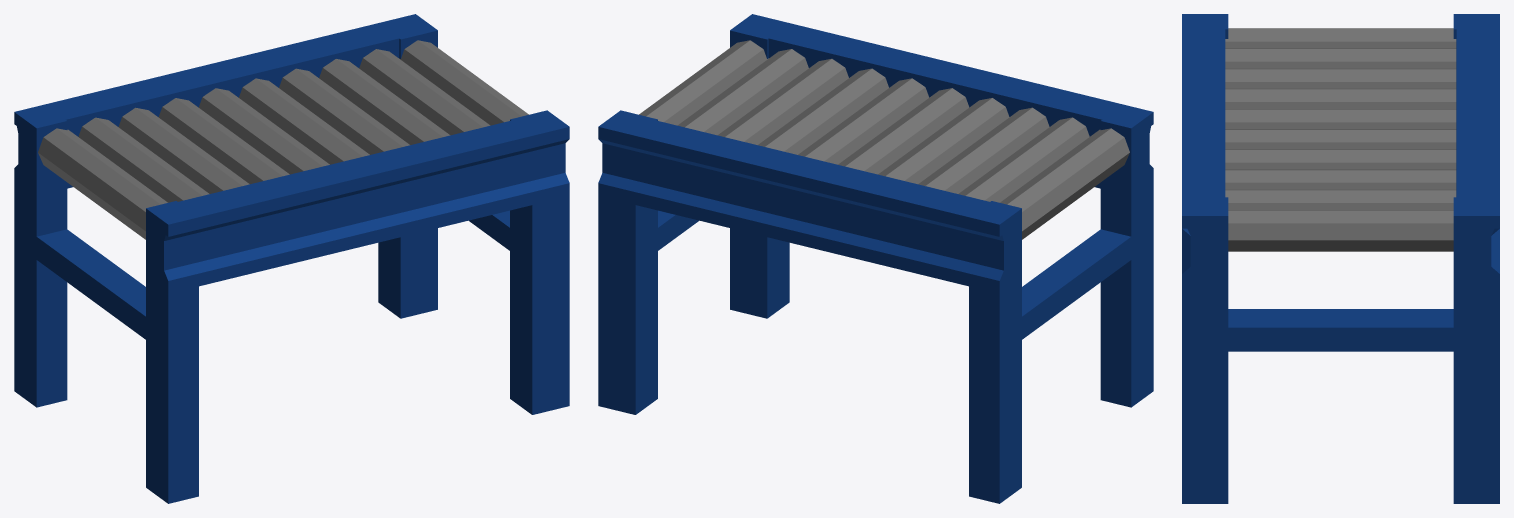
File: conveyor_basic.fbx
3 views of the same model, side by side, from view 1: azimuth 30°, elevation 25°; view 2: azimuth 150°, elevation 25°; view 3: azimuth 270°, elevation 25° (orthographic). The views are drawn at different scales.
Parts seen in each view (by area): view 1: Cube, Cylinder; view 2: Cube, Cylinder; view 3: Cube, Cylinder.
Part boxes in pixels (x1,y1,x2,y2): Cube: (14,14,569,503); Cylinder: (38,40,528,239); Cube: (598,14,1153,503); Cylinder: (639,40,1129,239); Cube: (1182,14,1499,503); Cylinder: (1225,28,1456,251).
Size of the model in its own units: 99.78 by 66.33 by 66.33.
